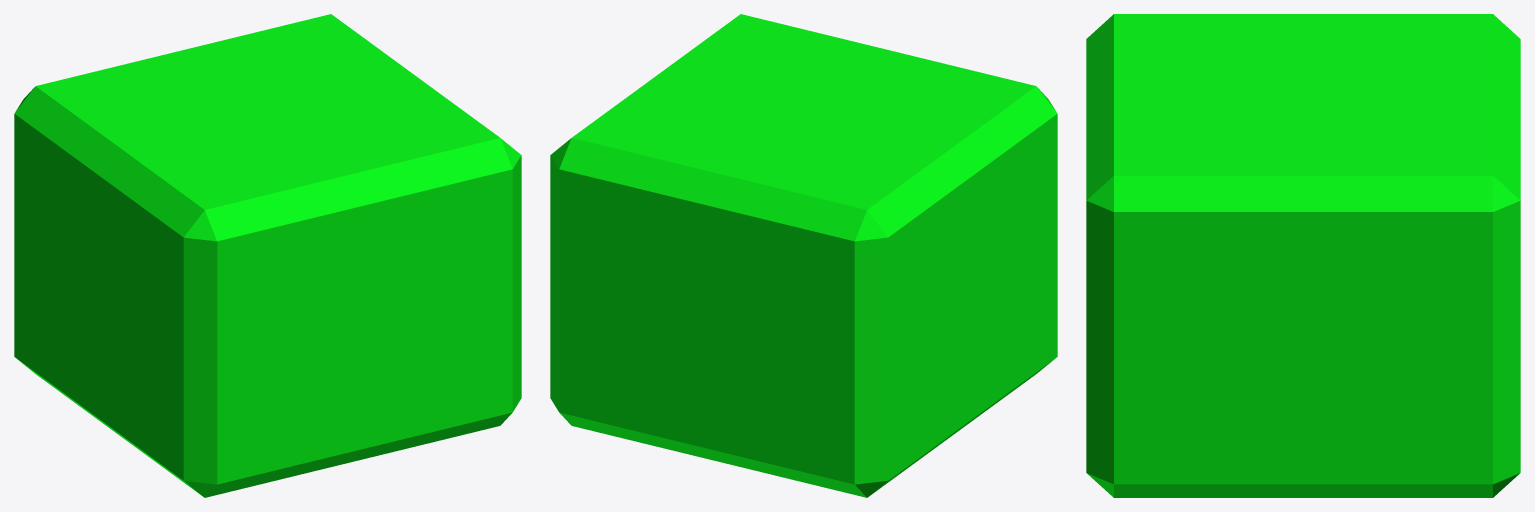
The picture shows the model from 3 angles, left to right: view 1: azimuth 30°, elevation 25°; view 2: azimuth 150°, elevation 25°; view 3: azimuth 270°, elevation 25°; orthographic projection. The views are drawn at different scales.
Visible parts, largest first — view 1: Dice (Low Poly); view 2: Dice (Low Poly); view 3: Dice (Low Poly).
Boxes of the visible parts, x1,y1,x2,y2 form: Dice (Low Poly): [14, 14, 521, 497]; Dice (Low Poly): [550, 14, 1057, 497]; Dice (Low Poly): [1086, 14, 1520, 497].
Size of the model in its own units: 1.86 by 1.52 by 1.85.
